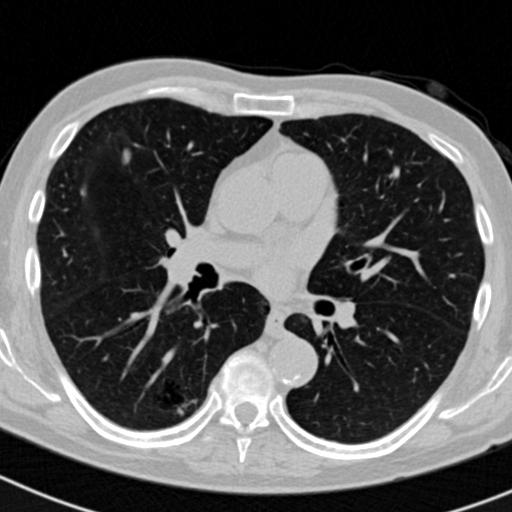nodule: (120, 148, 135, 163)
